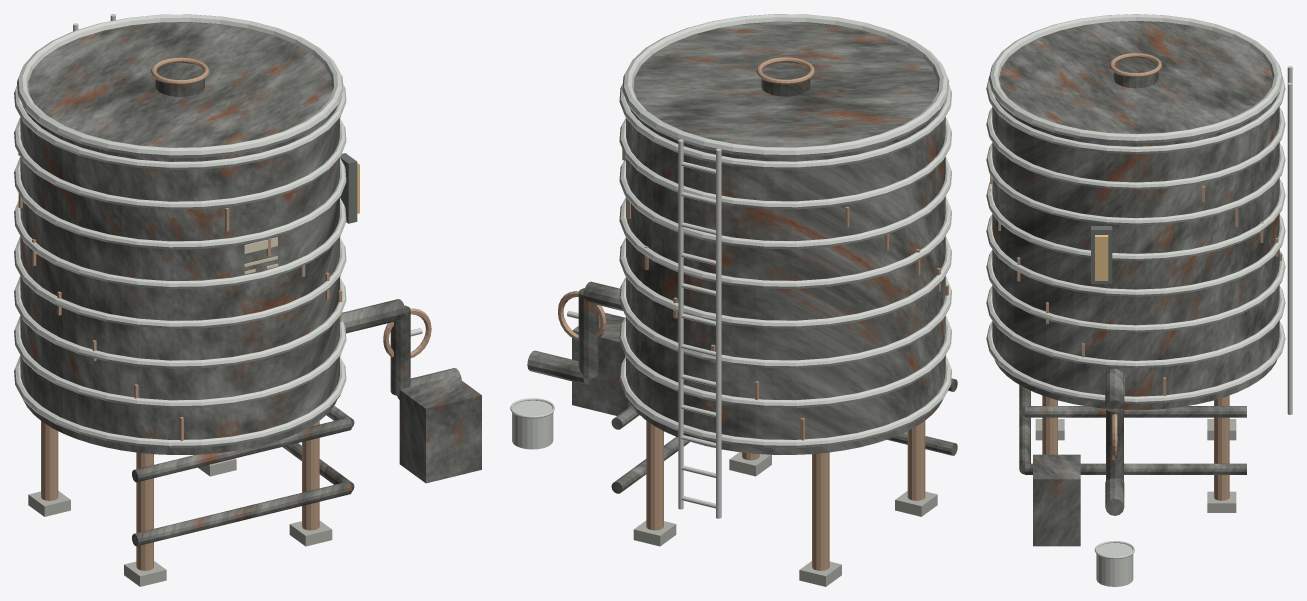
The model's file is afterday_water_tank_pbr.glb.
3 views of the same model, side by side, from view 1: azimuth 30°, elevation 25°; view 2: azimuth 150°, elevation 25°; view 3: azimuth 270°, elevation 25° (orthographic). The views are drawn at different scales.
Visible parts, largest first — view 1: galvanized potable tank_12, weather sealed pump cabinet_43, cap rim_21, rolled galvanized reinforcement rib_19, rolled galvanized reinforcement rib_16, rolled galvanized reinforcement rib_18, rolled galvanized reinforcement rib_13, rolled galvanized reinforcement rib_14, rolled galvanized reinforcement rib_15, rolled galvanized reinforcement rib_17, rolled galvanized reinforcement rib_20, water frame horizontal steel_8 (+15 smaller); view 2: galvanized potable tank_12, cap rim_21, rolled galvanized reinforcement rib_13, rolled galvanized reinforcement rib_17, rolled galvanized reinforcement rib_14, rolled galvanized reinforcement rib_16, rolled galvanized reinforcement rib_18, rolled galvanized reinforcement rib_19, rolled galvanized reinforcement rib_20, weather sealed pump cabinet_43, rolled galvanized reinforcement rib_15, water tank ladder rail_24 (+18 smaller); view 3: galvanized potable tank_12, cap rim_21, weather sealed pump cabinet_43, rolled galvanized reinforcement rib_18, rolled galvanized reinforcement rib_14, rolled galvanized reinforcement rib_16, rolled galvanized reinforcement rib_19, rolled galvanized reinforcement rib_15, rolled galvanized reinforcement rib_20, rolled galvanized reinforcement rib_13, rolled galvanized reinforcement rib_17, water frame horizontal steel_11 (+15 smaller).
Part boxes in pixels (x1,y1,x2,y2): galvanized potable tank_12: [20, 22, 339, 454]; weather sealed pump cabinet_43: [399, 376, 481, 483]; cap rim_21: [17, 14, 343, 158]; rolled galvanized reinforcement rib_19: [14, 117, 346, 209]; rolled galvanized reinforcement rib_16: [14, 236, 346, 328]; rolled galvanized reinforcement rib_18: [14, 157, 346, 249]; rolled galvanized reinforcement rib_13: [14, 356, 346, 447]; rolled galvanized reinforcement rib_14: [14, 316, 346, 408]; rolled galvanized reinforcement rib_15: [14, 276, 346, 368]; rolled galvanized reinforcement rib_17: [14, 197, 346, 289]; rolled galvanized reinforcement rib_20: [14, 84, 346, 169]; water frame horizontal steel_8: [132, 482, 351, 546]; galvanized potable tank_12: [626, 21, 945, 454]; cap rim_21: [622, 14, 949, 157]; rolled galvanized reinforcement rib_13: [619, 355, 951, 447]; rolled galvanized reinforcement rib_17: [619, 196, 951, 288]; rolled galvanized reinforcement rib_14: [619, 315, 951, 408]; rolled galvanized reinforcement rib_16: [619, 236, 951, 328]; rolled galvanized reinforcement rib_18: [619, 156, 951, 249]; rolled galvanized reinforcement rib_19: [619, 117, 951, 209]; rolled galvanized reinforcement rib_20: [619, 84, 951, 169]; weather sealed pump cabinet_43: [572, 312, 631, 415]; rolled galvanized reinforcement rib_15: [619, 276, 951, 368]; water tank ladder rail_24: [716, 148, 721, 518]; galvanized potable tank_12: [992, 21, 1279, 409]; cap rim_21: [989, 14, 1282, 143]; weather sealed pump cabinet_43: [1033, 454, 1080, 546]; rolled galvanized reinforcement rib_18: [986, 143, 1285, 225]; rolled galvanized reinforcement rib_14: [986, 286, 1285, 368]; rolled galvanized reinforcement rib_16: [986, 214, 1285, 296]; rolled galvanized reinforcement rib_19: [986, 107, 1285, 189]; rolled galvanized reinforcement rib_15: [986, 250, 1285, 332]; rolled galvanized reinforcement rib_20: [986, 76, 1285, 153]; rolled galvanized reinforcement rib_13: [986, 321, 1285, 403]; rolled galvanized reinforcement rib_17: [986, 179, 1285, 260]; water frame horizontal steel_11: [1025, 406, 1246, 417].
Size of the model in its own units: 8.42 by 8.52 by 5.8.
7 materials, 1 textured.
